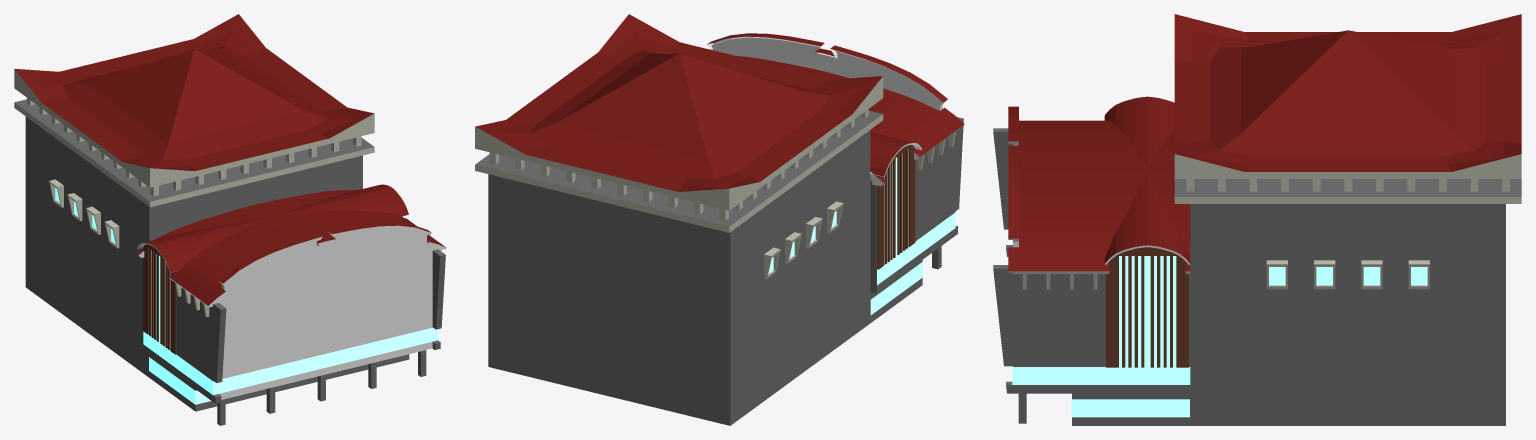
File: BurDramTheater.fbx
3 renders of one model, left to right at view 1: azimuth 30°, elevation 25°; view 2: azimuth 150°, elevation 25°; view 3: azimuth 270°, elevation 25°, orthographic. The views are drawn at different scales.
Parts seen in each view (by area): view 1: Cube.023, Cube.024, Cube.029, Cube.025, Cube.027; view 2: Cube.023, Cube.024, Cube.029, Cube.025, Cube.027; view 3: Cube.023, Cube.024, Cube.029, Cube.025, Cube.027.
Boxes of the visible parts, <box> form: Cube.023: <box>14,14,445,425</box>; Cube.024: <box>137,184,446,399</box>; Cube.029: <box>49,179,438,404</box>; Cube.025: <box>143,216,402,354</box>; Cube.027: <box>27,98,361,196</box>; Cube.023: <box>475,14,963,425</box>; Cube.024: <box>707,33,964,186</box>; Cube.029: <box>764,149,955,315</box>; Cube.025: <box>877,145,915,269</box>; Cube.027: <box>489,109,868,220</box>; Cube.023: <box>993,14,1521,425</box>; Cube.024: <box>1008,96,1190,273</box>; Cube.029: <box>1012,240,1429,417</box>; Cube.025: <box>1106,247,1188,367</box>; Cube.027: <box>1186,179,1509,191</box>.
Bounding box in the file's own units: 1784 × 1840 × 2680.
